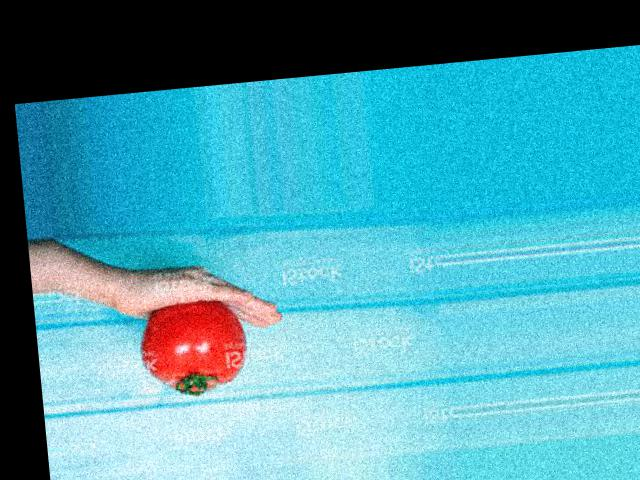tomato: (139, 297, 251, 398)
